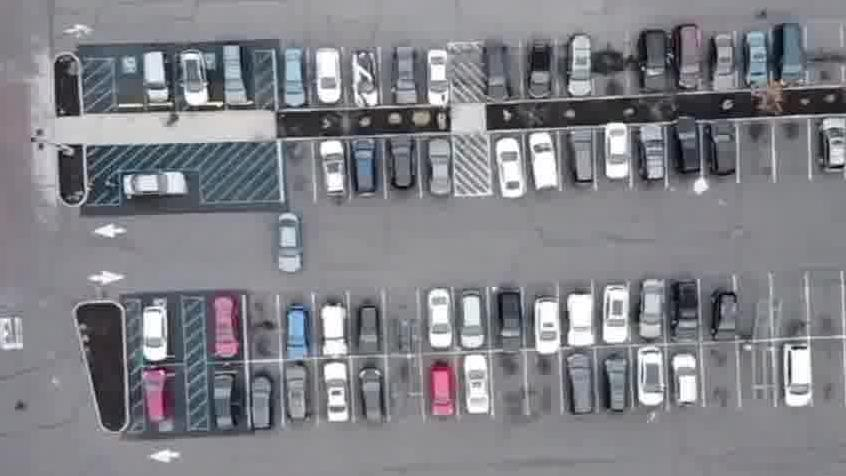car: (265, 209, 310, 272), (449, 286, 491, 348), (453, 354, 491, 421), (780, 342, 815, 412), (773, 25, 809, 90), (635, 32, 670, 97), (490, 135, 525, 200), (122, 165, 193, 197), (672, 24, 703, 93), (701, 118, 737, 177), (315, 359, 348, 423), (561, 351, 593, 417), (633, 349, 667, 411), (319, 136, 352, 199), (671, 119, 704, 182), (601, 354, 633, 417), (492, 290, 523, 355), (479, 39, 510, 103), (530, 136, 563, 196), (529, 300, 563, 358), (672, 283, 703, 346), (670, 351, 701, 414), (564, 125, 596, 186), (209, 292, 239, 357), (423, 284, 452, 349), (566, 40, 594, 107), (352, 363, 383, 423), (421, 359, 452, 419), (561, 298, 593, 356), (181, 48, 214, 104), (599, 281, 629, 342), (421, 136, 450, 198), (636, 283, 664, 347), (387, 132, 417, 191), (352, 138, 381, 199), (320, 300, 351, 357), (314, 45, 343, 105), (393, 47, 422, 107), (816, 119, 846, 177), (246, 366, 274, 428), (144, 48, 175, 104), (637, 126, 666, 185), (140, 366, 169, 425), (220, 46, 249, 104), (743, 37, 772, 95), (711, 291, 741, 347), (209, 364, 236, 426), (141, 296, 169, 355), (280, 46, 307, 107), (530, 44, 556, 107), (425, 52, 452, 112), (353, 49, 381, 106), (282, 363, 309, 422), (606, 129, 632, 190), (281, 305, 310, 358), (712, 38, 737, 99), (357, 304, 381, 357)
